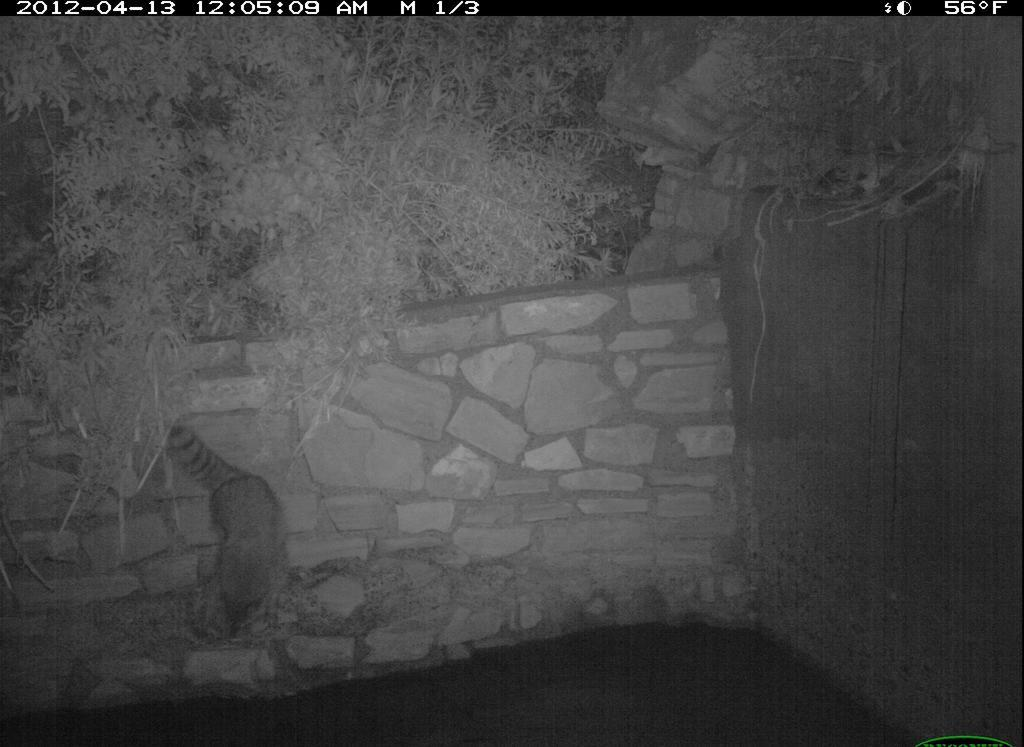raccoon: (164, 413, 300, 646)
